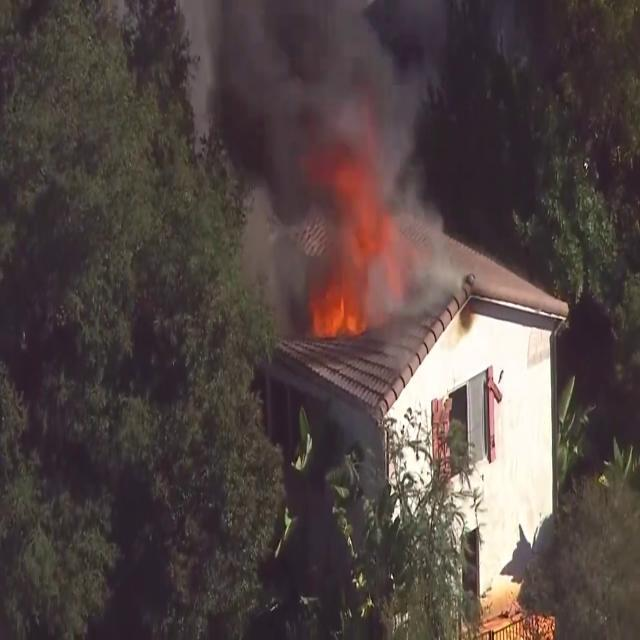Fire: (310, 264, 373, 344)
Smoke: (189, 0, 457, 315)
